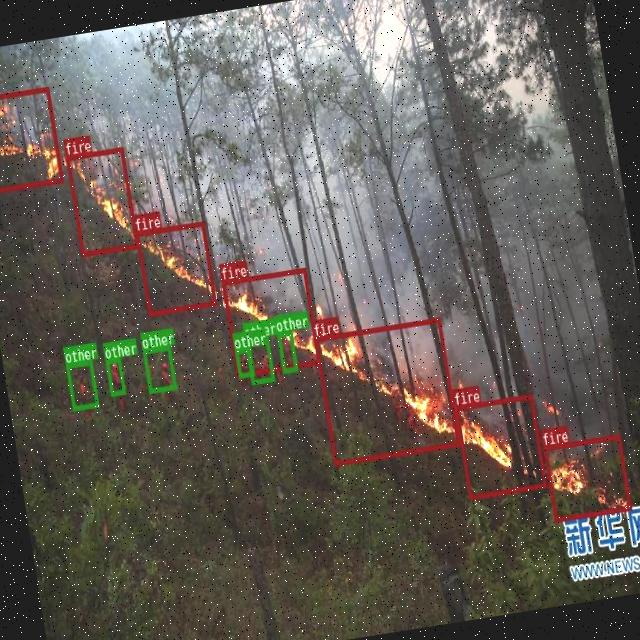fire: (314, 316, 460, 464), (221, 268, 320, 377), (454, 394, 546, 499), (65, 146, 138, 256), (542, 434, 632, 522), (135, 220, 216, 316), (0, 86, 63, 194)
